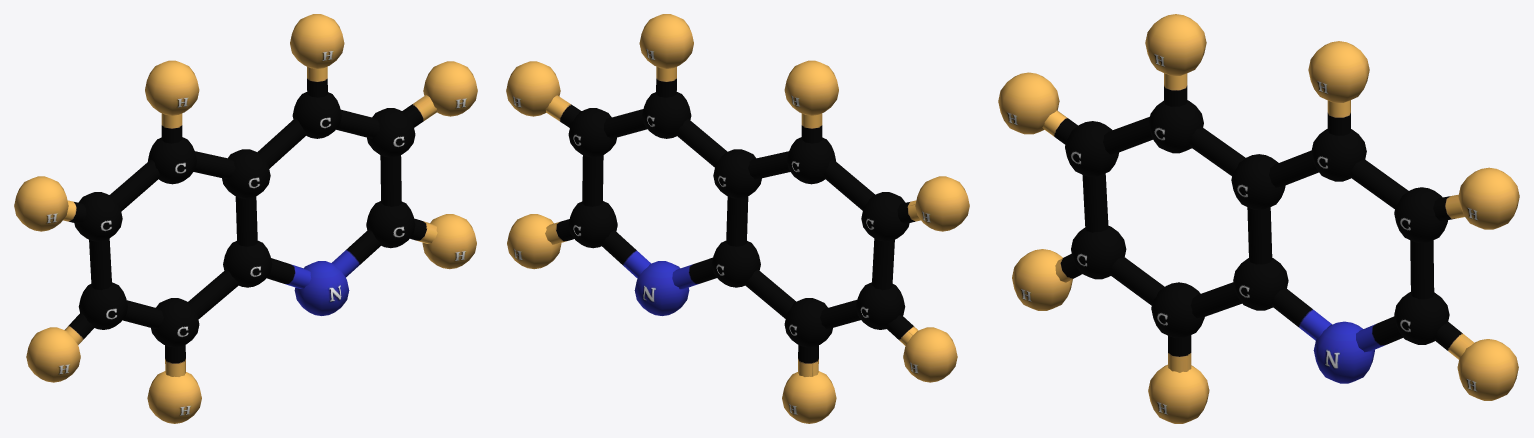
The model's file is Quinoline.dae.
The picture shows the model from 3 angles, left to right: view 1: azimuth 30°, elevation 25°; view 2: azimuth 150°, elevation 25°; view 3: azimuth 330°, elevation 25°; orthographic projection. The views are drawn at different scales.
Parts seen in each view (by area): view 1: polySurface1; view 2: polySurface1; view 3: polySurface1.
Part boxes in pixels (left/top/right/bottom): polySurface1: left=14, top=14, right=477, bottom=423; polySurface1: left=506, top=14, right=969, bottom=423; polySurface1: left=998, top=14, right=1519, bottom=423.
Size of the model in its own units: 5.9 by 4.58 by 0.6129.
Materials: 1 (1 with a texture image).
